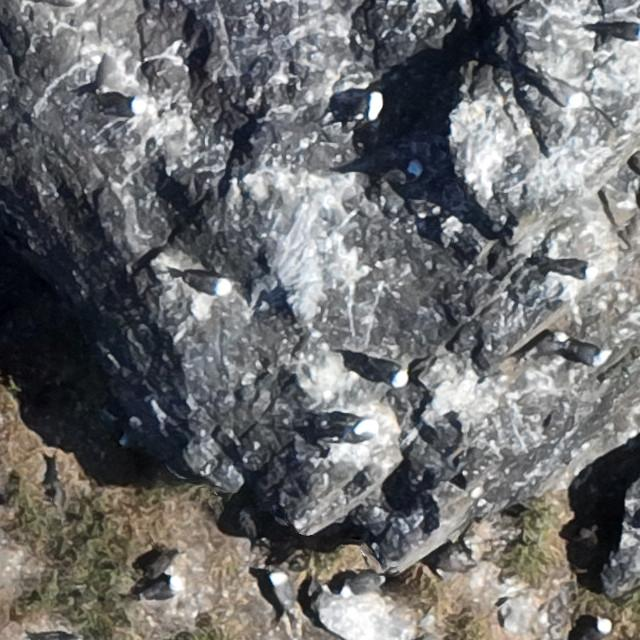umineko: (351, 355, 411, 390), (542, 73, 586, 108), (182, 272, 229, 294), (342, 572, 381, 598), (552, 258, 598, 280), (341, 418, 378, 445), (528, 332, 568, 356), (144, 574, 185, 596), (564, 343, 606, 364), (353, 93, 384, 121), (105, 98, 145, 117), (271, 574, 290, 606), (402, 156, 422, 180), (586, 618, 611, 637)
